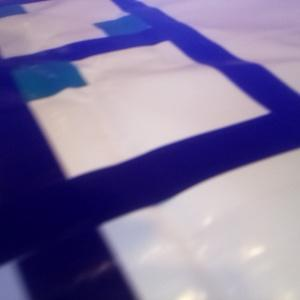bottom_right: (1, 58, 87, 103), (1, 1, 27, 18)
top_left: (95, 15, 161, 43)
